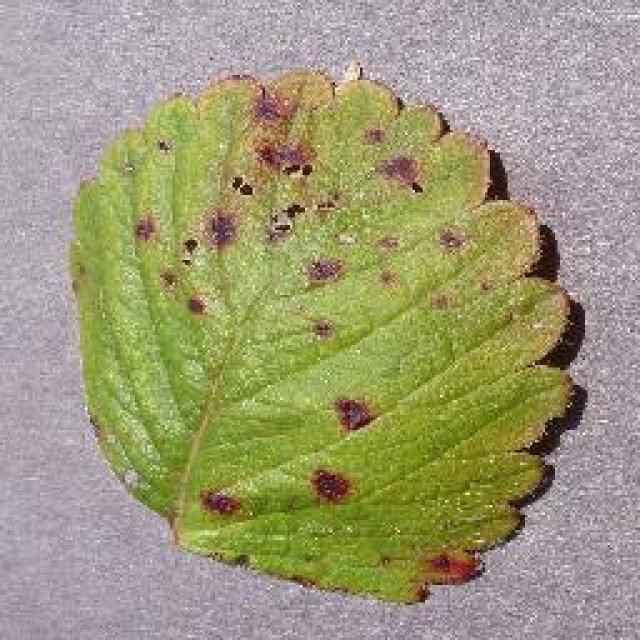Strawberry leaf scorch: (148, 73, 475, 637)
